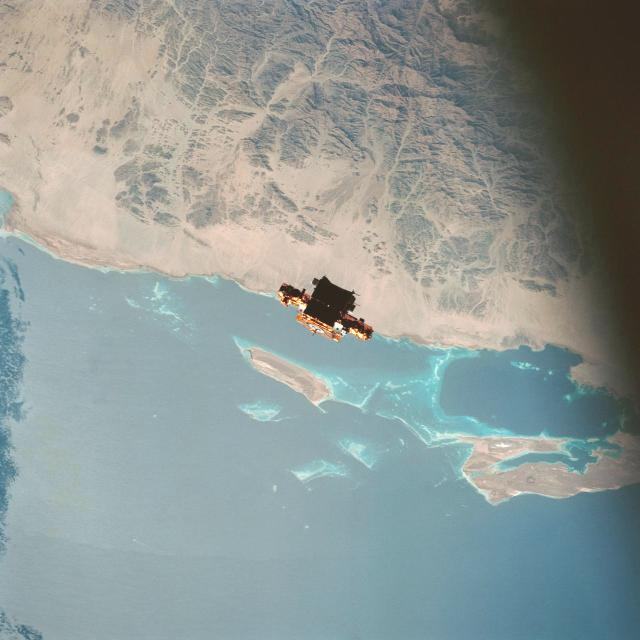medium_debris: (278, 276, 373, 341)
